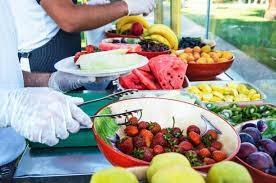apron: (0, 83, 84, 143), (49, 71, 110, 91), (124, 0, 159, 15)
